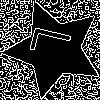L: (29, 24, 82, 62)
